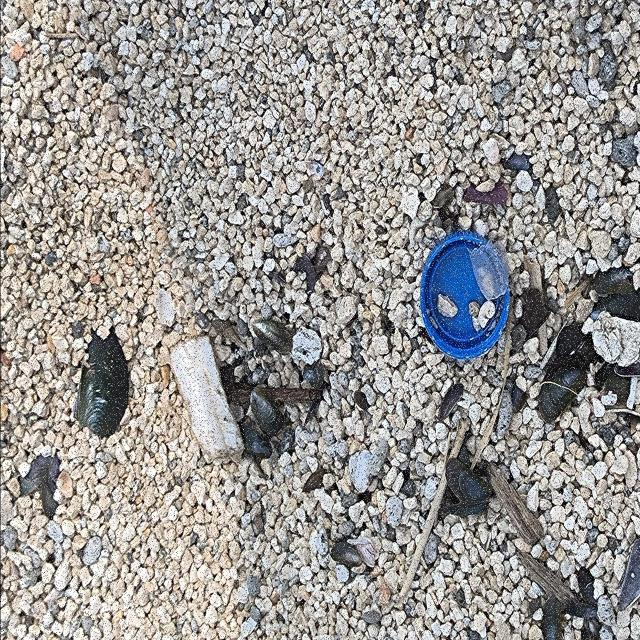plastic_waste: (421, 231, 511, 362)
